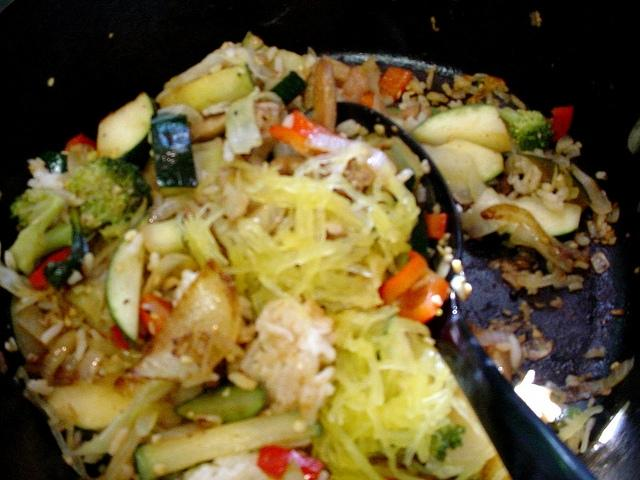bell pepper: (378, 252, 448, 324), (269, 110, 341, 158), (28, 246, 70, 291), (140, 292, 172, 334), (379, 66, 414, 102), (256, 445, 290, 480), (110, 320, 148, 350), (545, 105, 574, 141), (425, 212, 448, 239), (64, 134, 98, 150), (358, 92, 374, 108)
broccoli: (10, 155, 152, 275), (136, 412, 320, 477), (175, 384, 266, 423), (500, 106, 554, 151), (430, 423, 468, 464)
carrot: (29, 238, 96, 290), (269, 110, 341, 158), (394, 269, 450, 324), (378, 250, 428, 304), (256, 446, 292, 480), (548, 107, 574, 150), (380, 66, 412, 100), (425, 212, 446, 240), (65, 134, 97, 151), (111, 324, 131, 350)
onion: (480, 205, 588, 261), (304, 132, 398, 182), (554, 358, 635, 402), (42, 330, 77, 386), (516, 275, 552, 288)
vegetable marrow: (134, 410, 326, 479), (104, 210, 150, 348), (409, 103, 512, 152), (160, 64, 254, 114), (96, 91, 158, 159), (419, 143, 486, 205), (150, 112, 198, 198), (172, 388, 264, 424), (435, 138, 505, 182), (512, 195, 583, 236), (270, 70, 307, 106)
